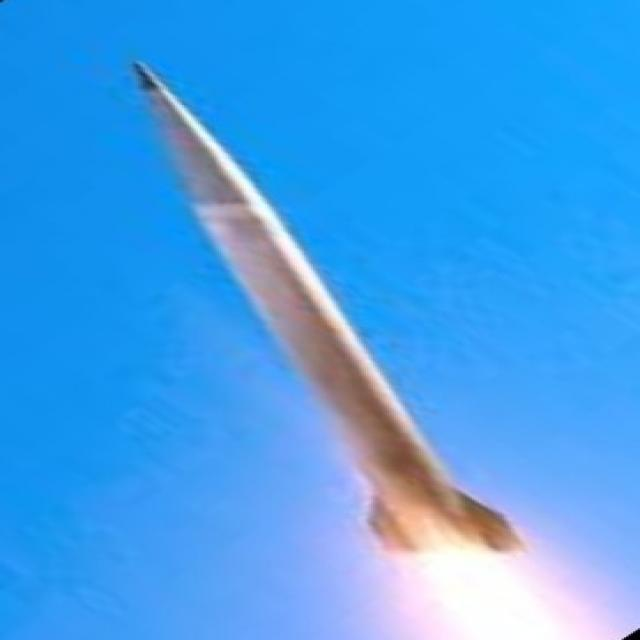missile: (132, 58, 530, 560)
